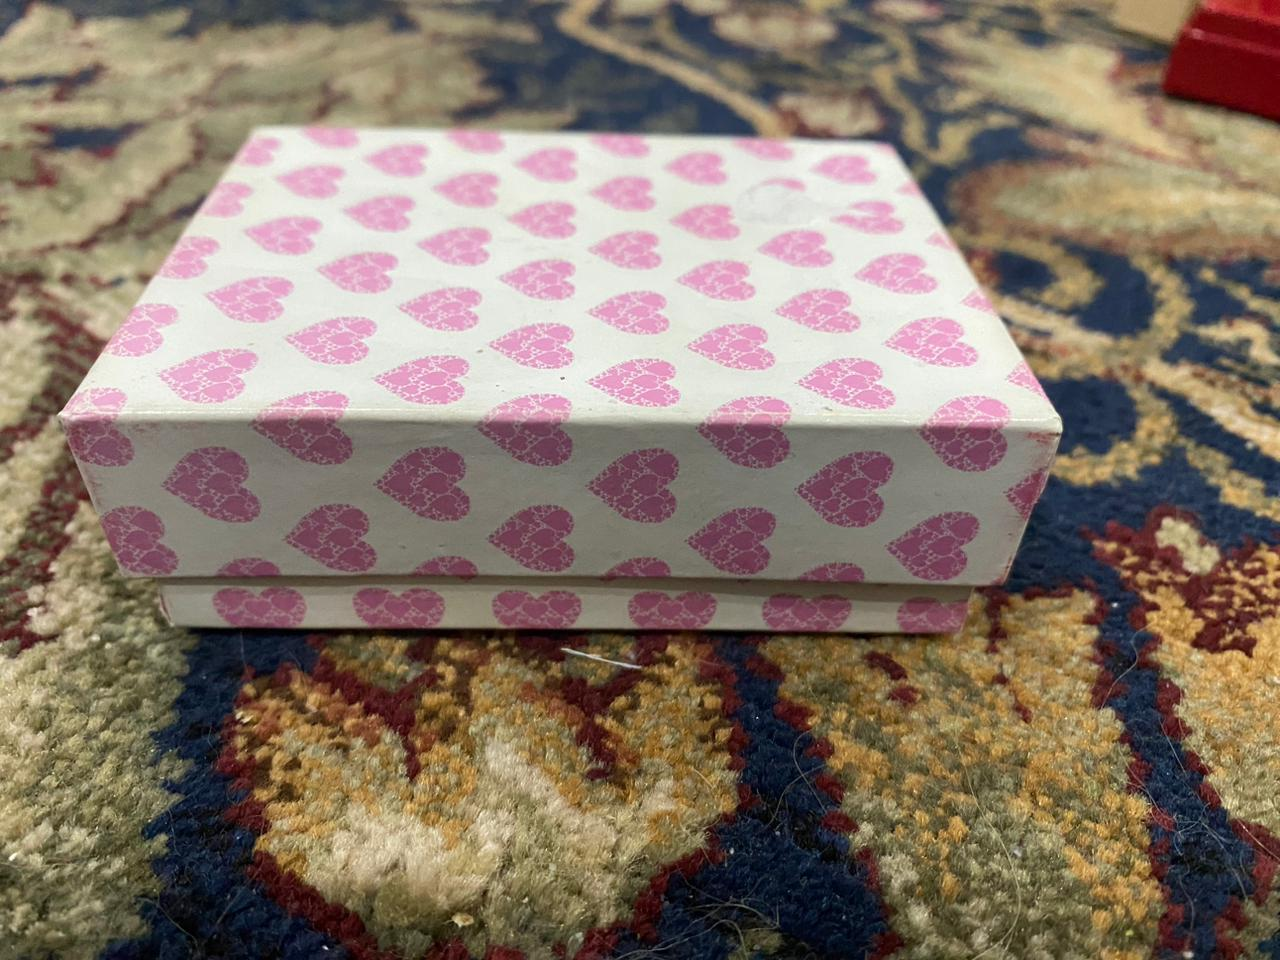Black Box: (1159, 1, 1277, 131)
Pink Box: (52, 124, 1067, 644)
